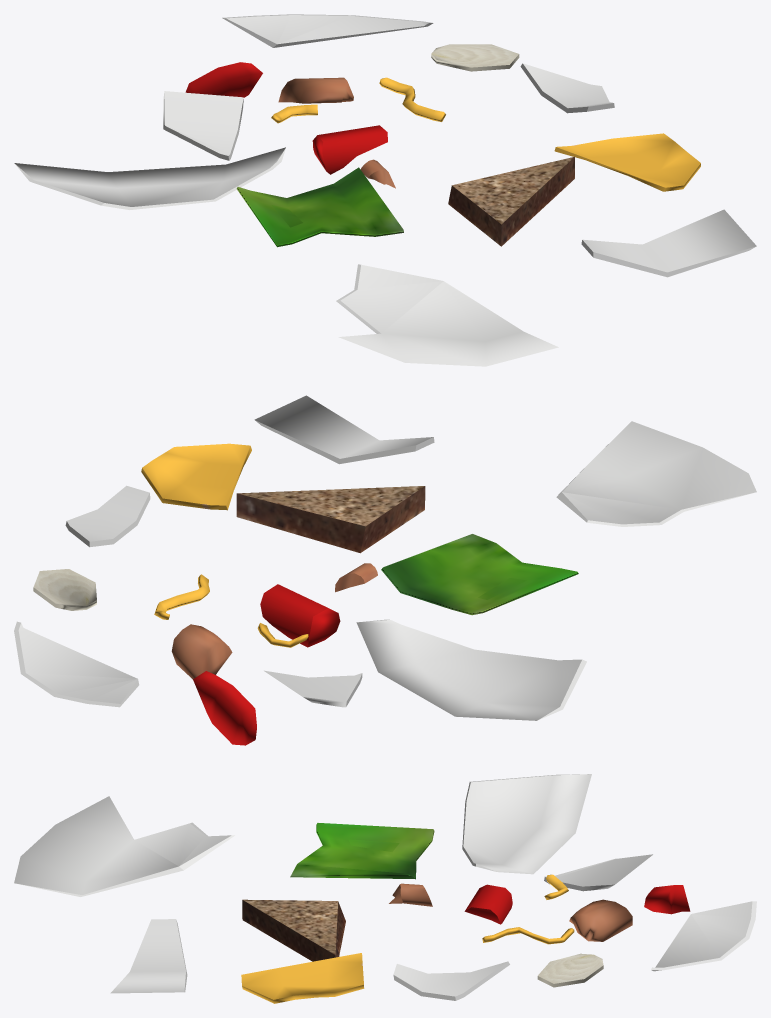
Rendered from PlateWithFood_V2.fbx.
3 views of the same model, one above another, from view 1: azimuth 30°, elevation 25°; view 2: azimuth 150°, elevation 25°; view 3: azimuth 270°, elevation 25° (orthographic). The views are drawn at different scales.
Visible parts, largest first — view 1: PlateWithFood_V2; view 2: PlateWithFood_V2; view 3: PlateWithFood_V2.
Boxes of the visible parts, bbox=[...] form: PlateWithFood_V2: bbox=[14, 14, 756, 366]; PlateWithFood_V2: bbox=[14, 395, 756, 745]; PlateWithFood_V2: bbox=[14, 774, 756, 1003].
Bounding box in the file's own units: 0.4348 × 0.0486 × 0.5918.
